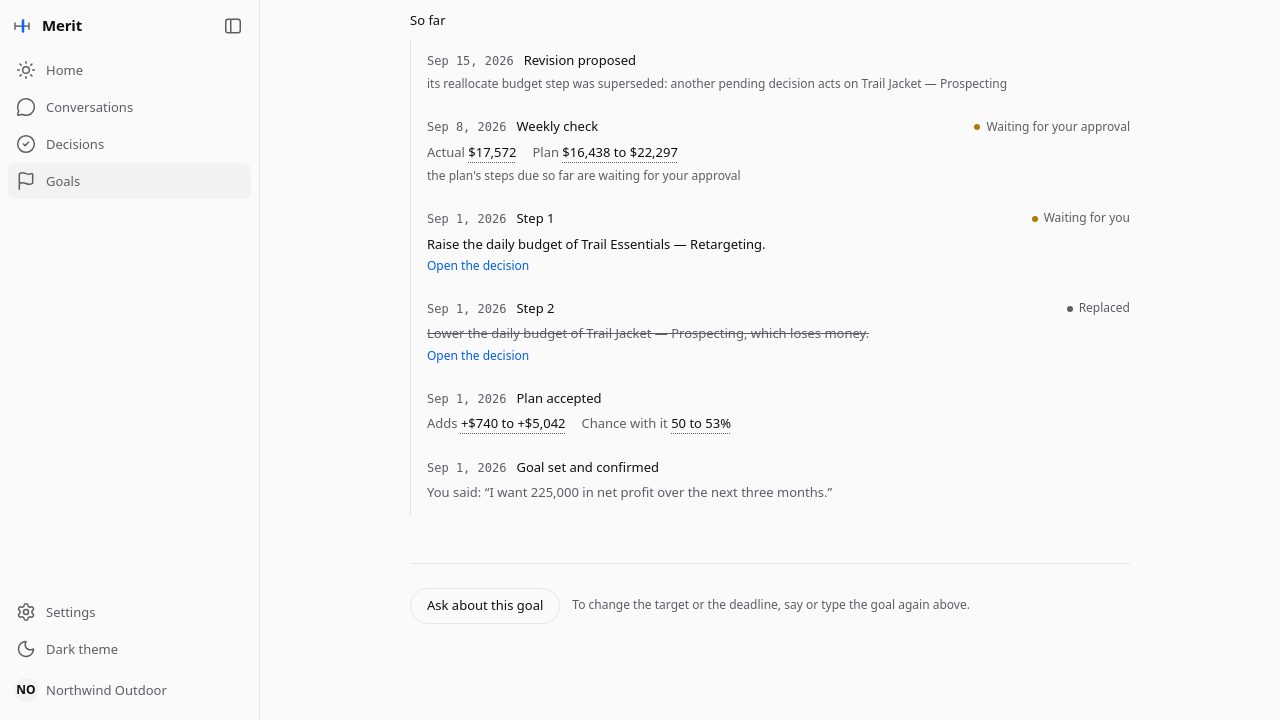
Scenario: Goals › asks from anywhere with Ctrl+K, about the goal on screen unless turned off
(page scrolled)
Expected: the button "Ask about this goal" is shown, [410, 588, 560, 624]
Type keys "{Control>}k{/Control}"
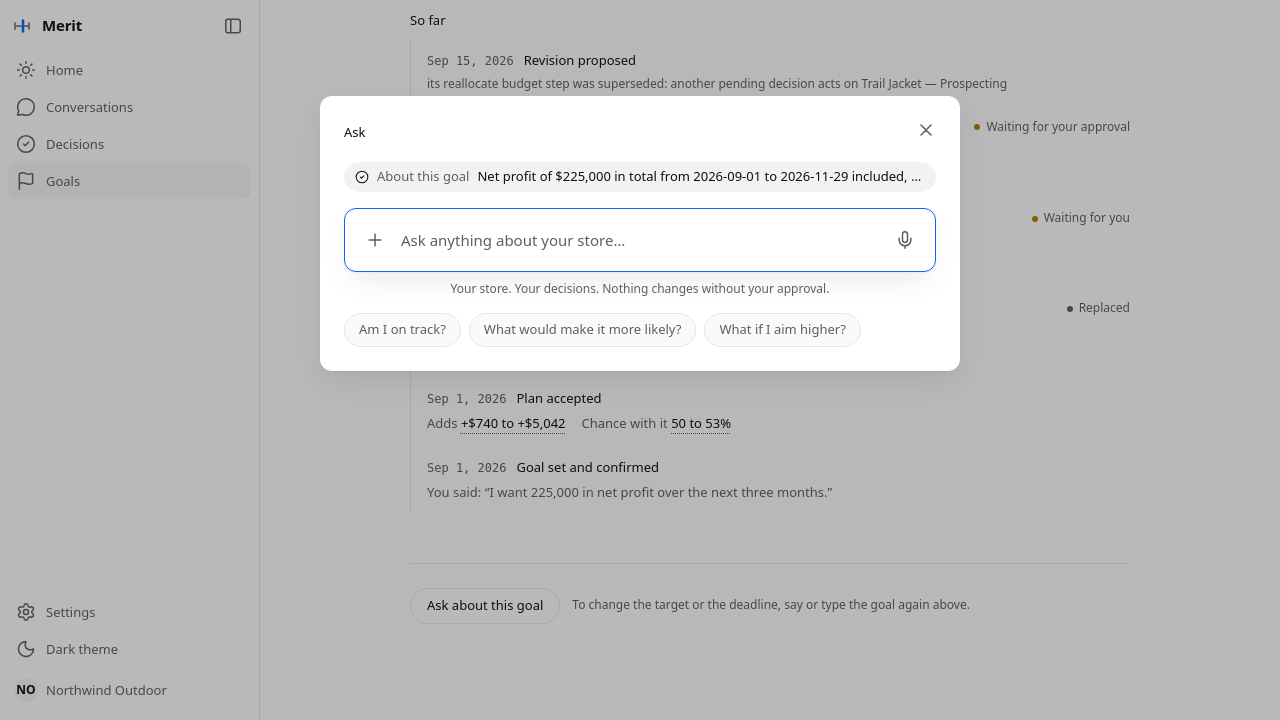
Click the button "What if I aim higher?".
click(783, 330)  # box [704, 313, 861, 347]
(page scrolled)
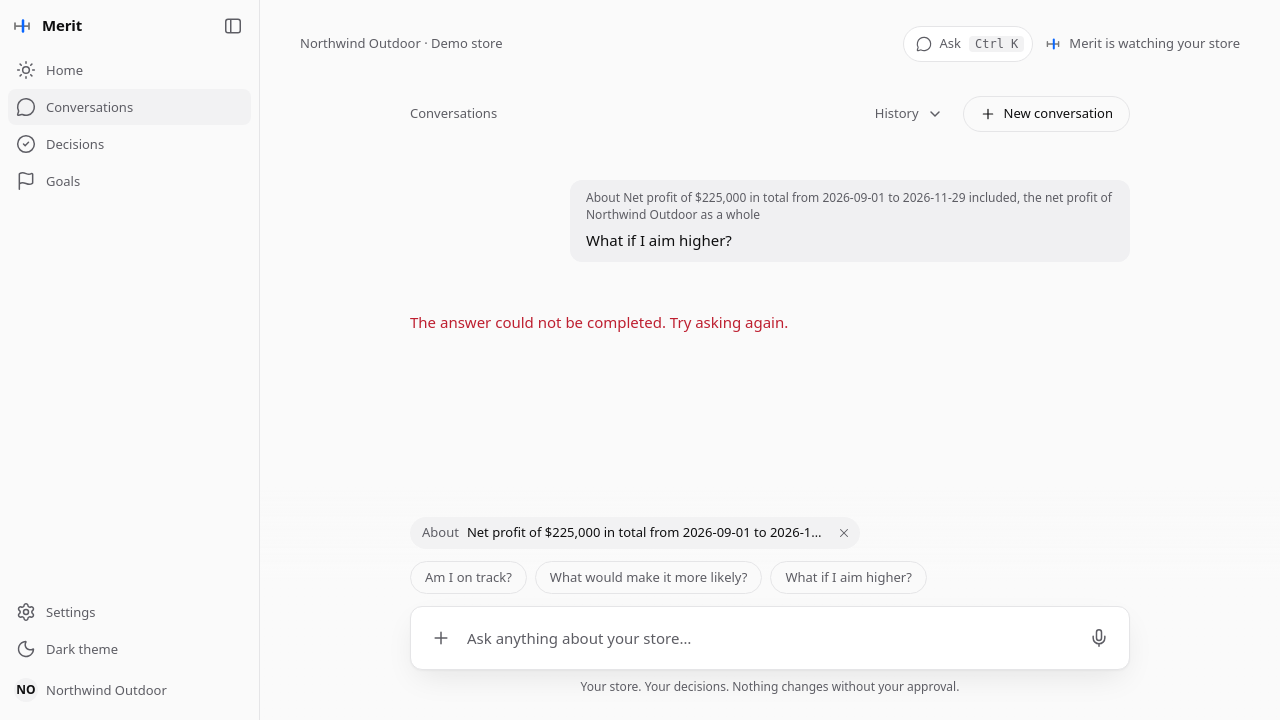
Expected: the dialog is gone
